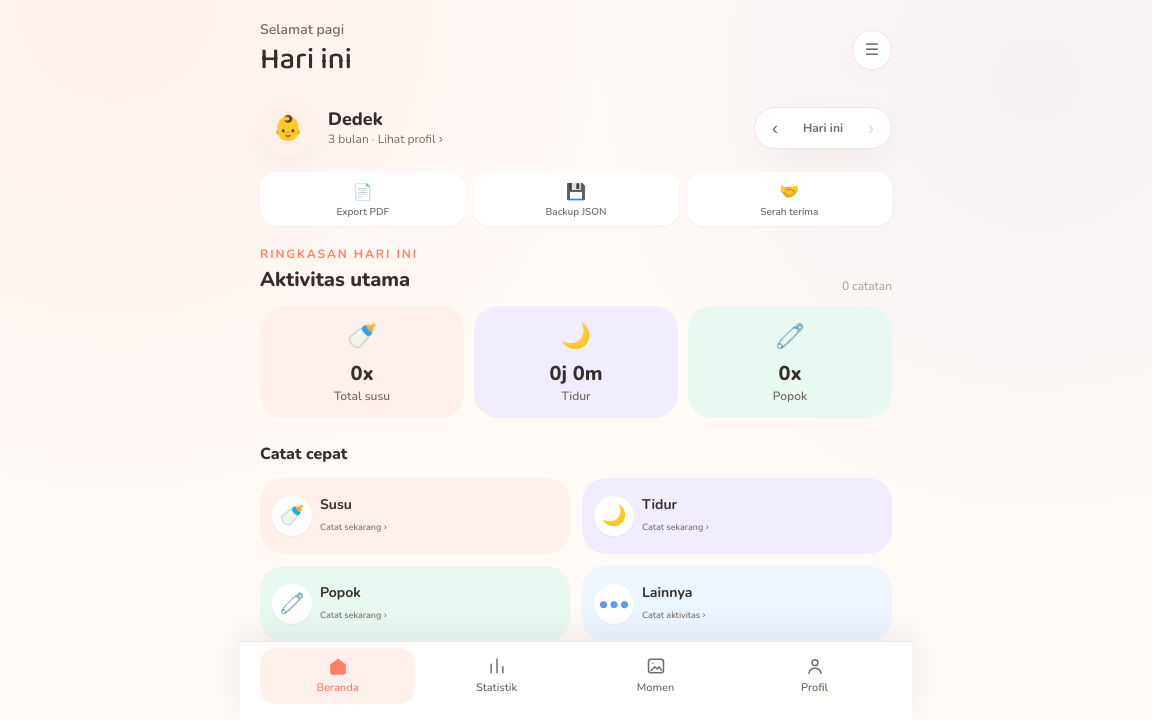
Test case: App — Caregiver Roles & Permissions Phase 1: owner-only caregiver-management menu entry › shows the '👥 Pengasuh' entry to the owner
Expected: the text "Dedek" is shown, [328, 107, 383, 131]
Click the button "☰": (872, 50) [852, 30, 892, 70]
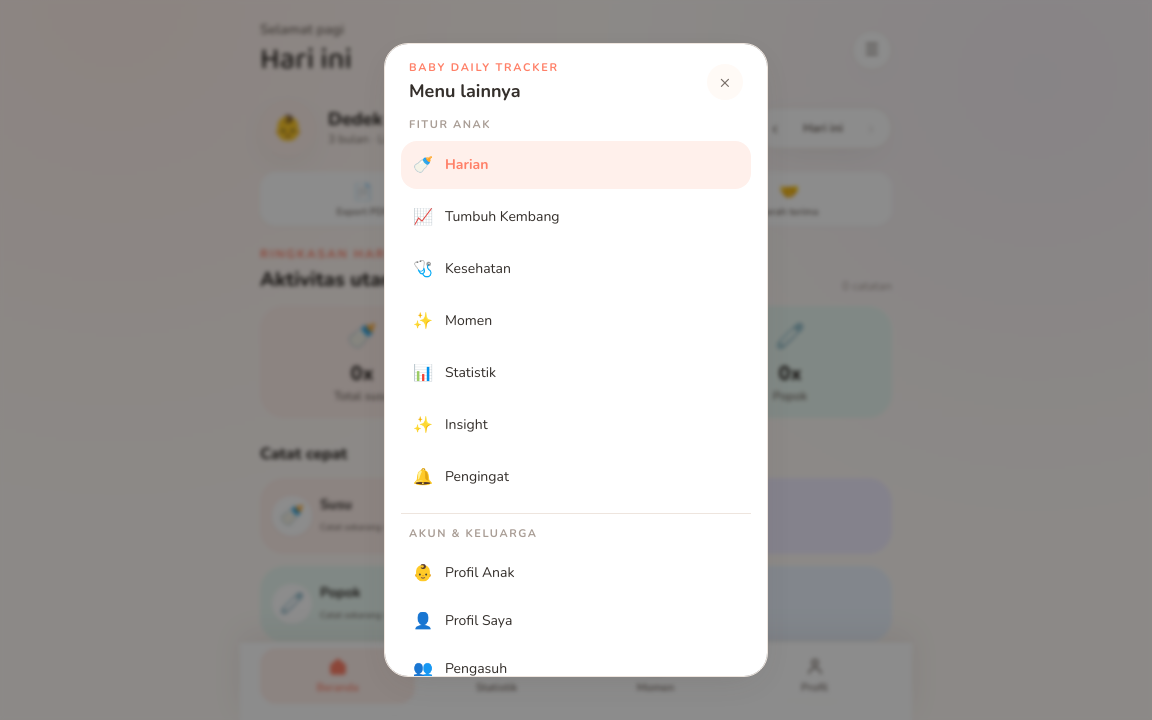
Expected: the button "👥 Pengasuh" is shown, [401, 647, 751, 677]
